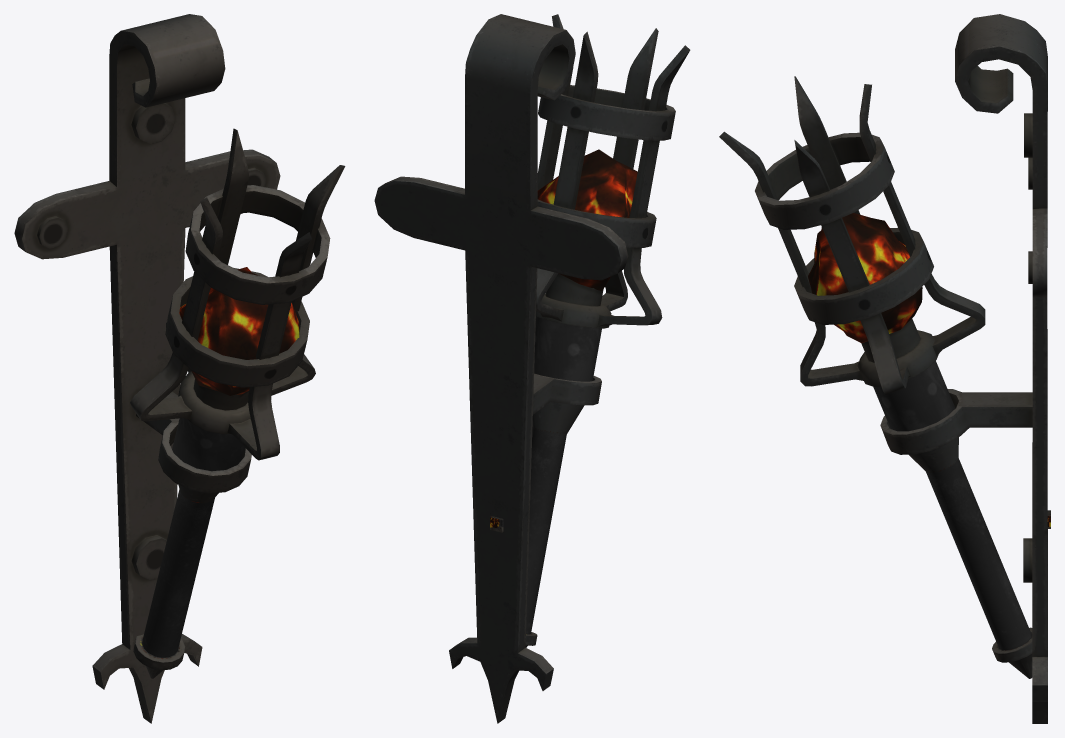
The picture shows the model from 3 angles, left to right: view 1: azimuth 30°, elevation 25°; view 2: azimuth 150°, elevation 25°; view 3: azimuth 270°, elevation 25°; orthographic projection. The views are drawn at different scales.
Visible parts, largest first — view 1: torchholder_Mat_0, torch_2_Mat_0; view 2: torchholder_Mat_0, torch_2_Mat_0; view 3: torch_2_Mat_0, torchholder_Mat_0.
Boxes of the visible parts, left/top/right/bottom form: torchholder_Mat_0: left=14, top=14, right=280, bottom=723; torch_2_Mat_0: left=130, top=128, right=345, bottom=678; torchholder_Mat_0: left=374, top=14, right=628, bottom=723; torch_2_Mat_0: left=525, top=14, right=690, bottom=647; torch_2_Mat_0: left=719, top=76, right=1032, bottom=678; torchholder_Mat_0: left=880, top=14, right=1047, bottom=723.
Bounding box in the file's own units: 40.86 × 108 × 46.61.
Materials: 2 (2 with a texture image).
